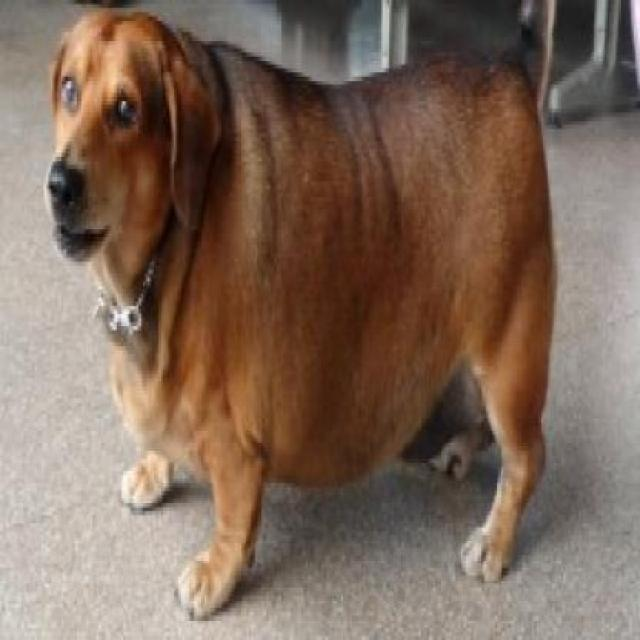Dog: (45, 5, 563, 637)
